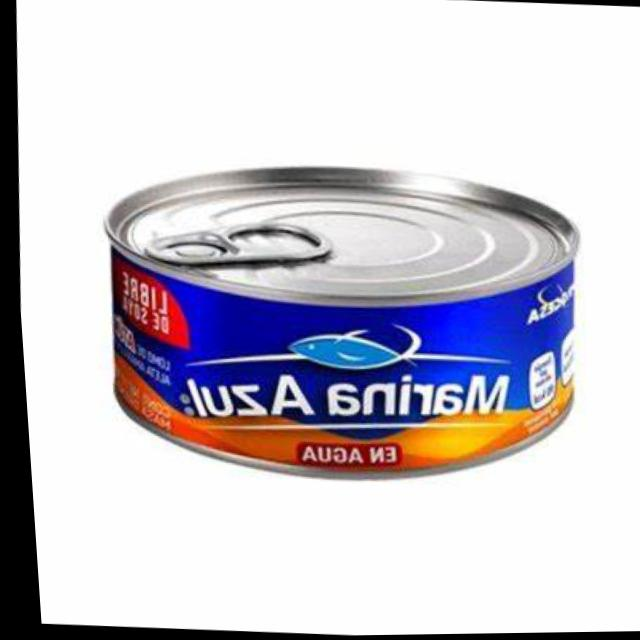Lata: (80, 130, 602, 485)
